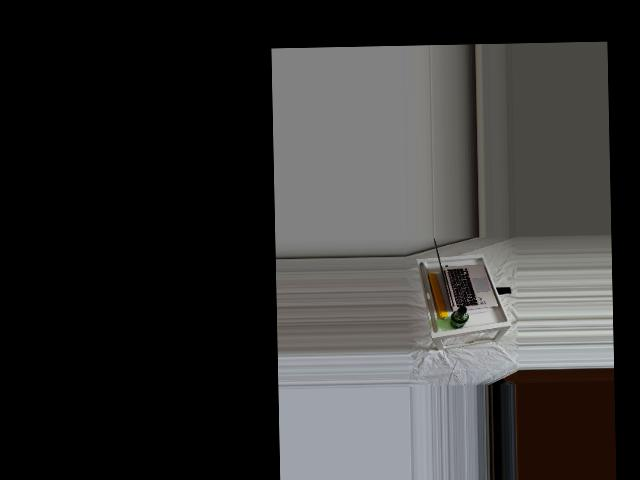beer: (449, 306, 468, 329)
